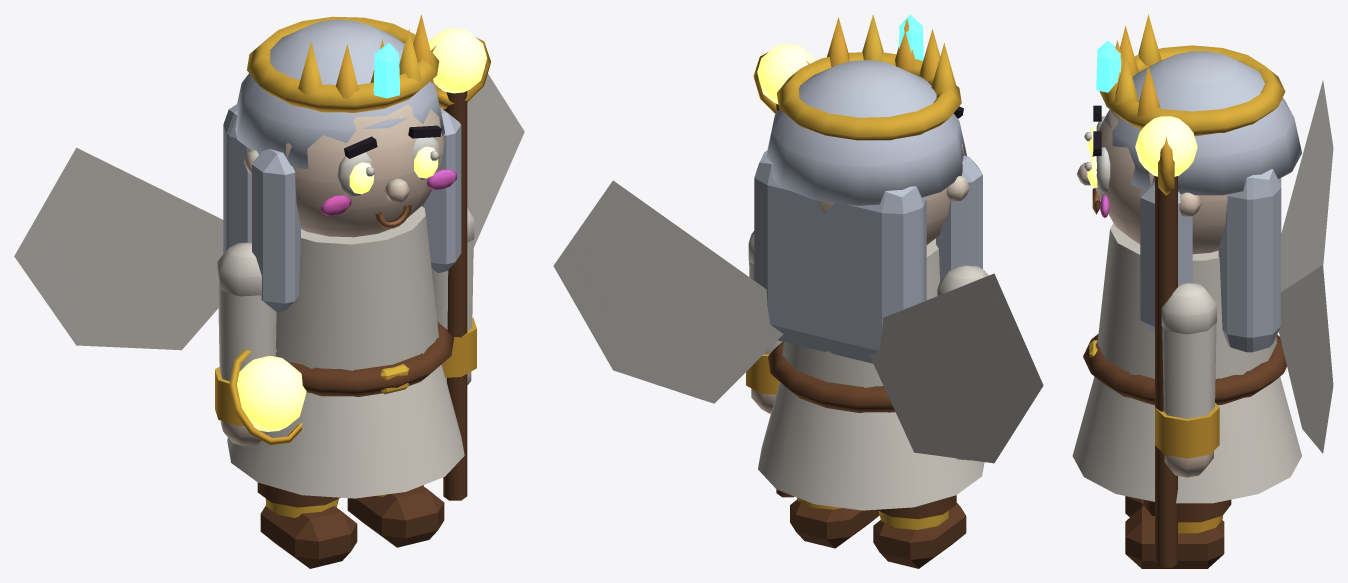
The model's file is hero_celeste.glb.
3 renders of one model, left to right at view 1: azimuth 30°, elevation 25°; view 2: azimuth 150°, elevation 25°; view 3: azimuth 270°, elevation 25°, orthographic. The views are drawn at different scales.
Parts seen in each view (by area): view 1: body_t0_palette, arml_t0_palette, armr_t0_palette, legl_t0_palette, arml_t0_glow_gold, legr_t0_palette, armr_t0_glow_gold, body_t0_crystal, body_t0_glow_gold; view 2: body_t0_palette, legl_t0_palette, legr_t0_palette, armr_t0_palette, armr_t0_glow_gold, arml_t0_palette, body_t0_crystal; view 3: body_t0_palette, armr_t0_palette, legr_t0_palette, armr_t0_glow_gold, body_t0_crystal, body_t0_glow_gold.
Part boxes in pixels (left/top/right/bottom): body_t0_palette: left=14, top=14, right=524, bottom=498; arml_t0_palette: left=215, top=242, right=302, bottom=446; armr_t0_palette: left=431, top=37, right=490, bottom=500; legl_t0_palette: left=257, top=482, right=357, bottom=568; arml_t0_glow_gold: left=237, top=356, right=306, bottom=431; legr_t0_palette: left=347, top=485, right=444, bottom=547; armr_t0_glow_gold: left=428, top=28, right=486, bottom=93; body_t0_crystal: left=373, top=43, right=399, bottom=98; body_t0_glow_gold: left=349, top=146, right=438, bottom=194; body_t0_palette: left=553, top=14, right=1043, bottom=510; legl_t0_palette: left=873, top=495, right=966, bottom=568; legr_t0_palette: left=790, top=497, right=879, bottom=548; armr_t0_palette: left=746, top=52, right=809, bottom=497; armr_t0_glow_gold: left=757, top=43, right=814, bottom=104; arml_t0_palette: left=937, top=265, right=988, bottom=460; body_t0_crystal: left=899, top=14, right=923, bottom=61; body_t0_palette: left=1072, top=14, right=1333, bottom=503; armr_t0_palette: left=1155, top=136, right=1219, bottom=567; legr_t0_palette: left=1125, top=499, right=1231, bottom=568; armr_t0_glow_gold: left=1135, top=116, right=1197, bottom=176; body_t0_crystal: left=1096, top=40, right=1120, bottom=92; body_t0_glow_gold: left=1087, top=126, right=1097, bottom=187.
Bounding box in the file's own units: 0.54 × 0.53 × 0.25.
